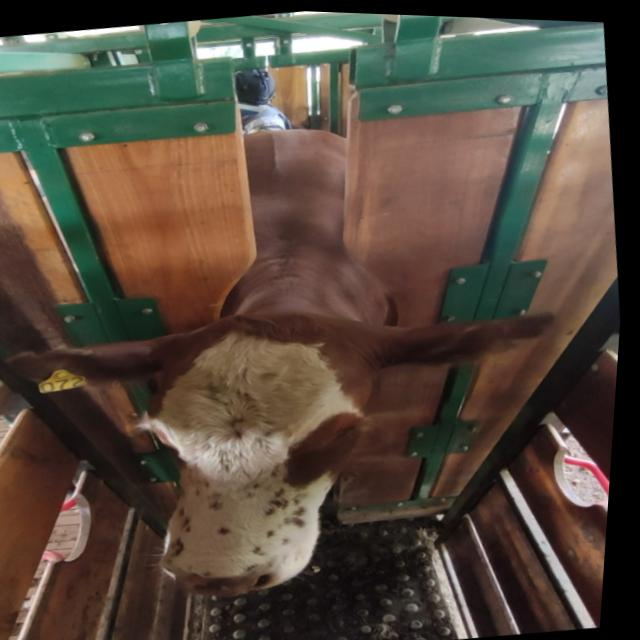cowFace: (129, 297, 403, 605)
